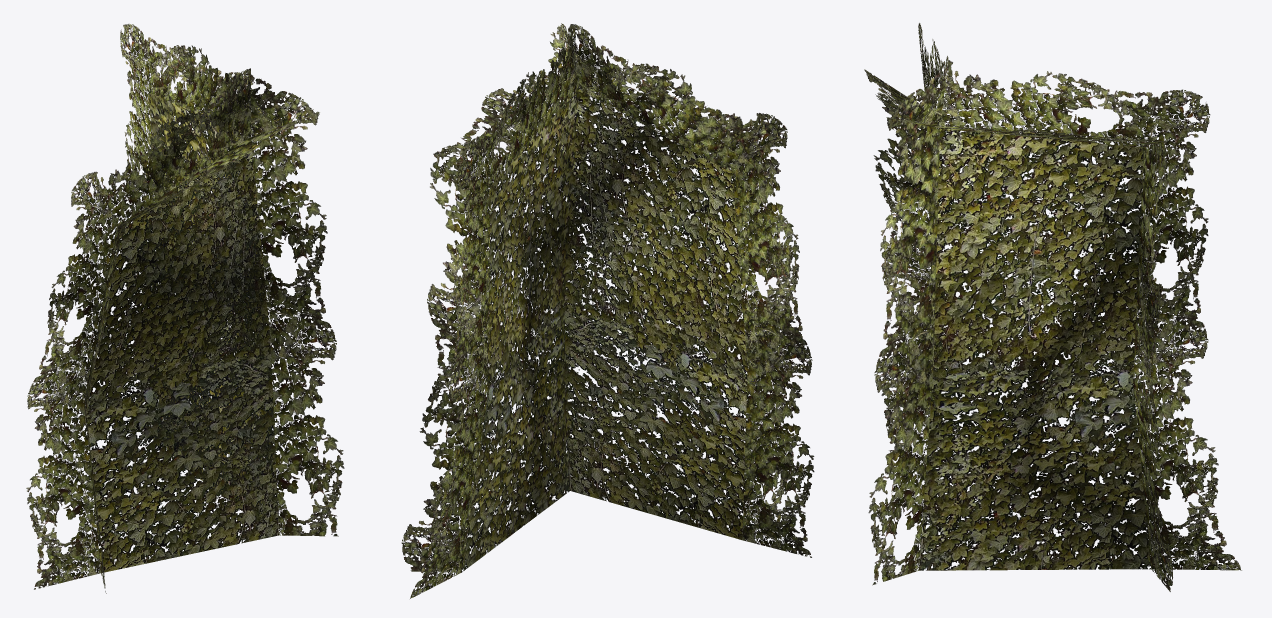
The model's file is KM_VOB_IVY_02.glb.
The picture shows the model from 3 angles, left to right: view 1: azimuth 30°, elevation 25°; view 2: azimuth 150°, elevation 25°; view 3: azimuth 270°, elevation 25°; orthographic projection. The views are drawn at different scales.
Parts seen in each view (by area): view 1: Mesh; view 2: Mesh; view 3: Mesh.
Part boxes in pixels (bbox=[...]): Mesh: bbox=[26, 24, 344, 593]; Mesh: bbox=[401, 23, 814, 598]; Mesh: bbox=[864, 23, 1241, 591].
Bounding box in the file's own units: 2.18 × 3.17 × 2.26.
Materials: 2 (2 with a texture image).
